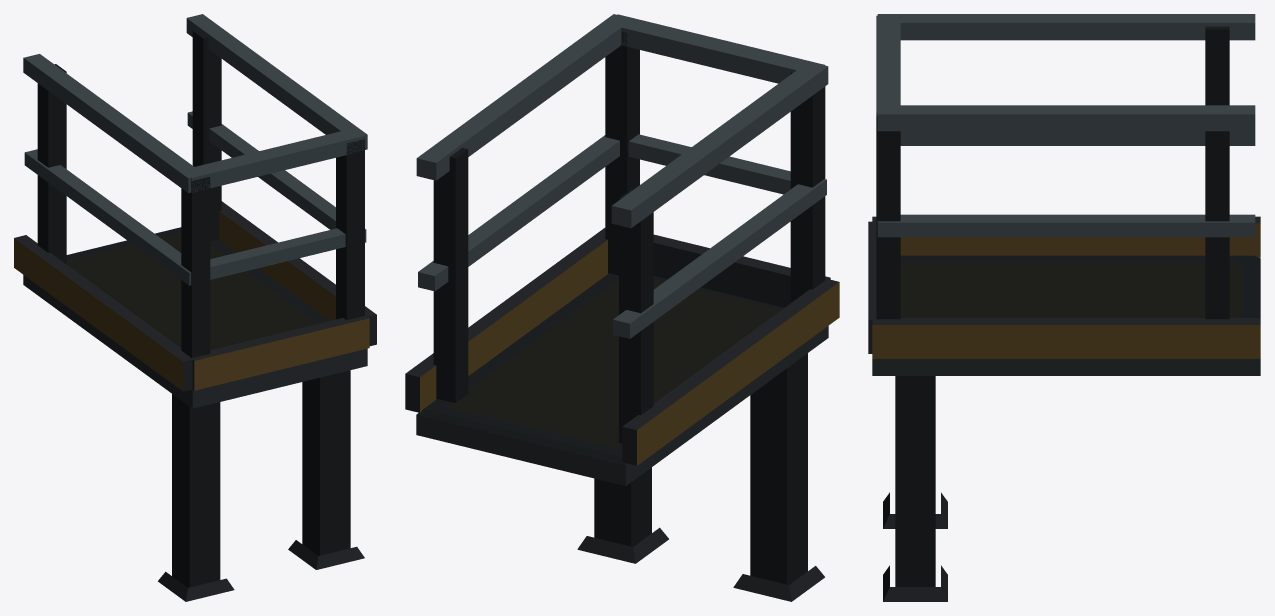
The model's file is lp_core_gantry.glb.
3 renders of one model, left to right at view 1: azimuth 30°, elevation 25°; view 2: azimuth 150°, elevation 25°; view 3: azimuth 270°, elevation 25°, orthographic. The views are drawn at different scales.
Visible parts, largest first — view 1: lp_core_gantry; view 2: lp_core_gantry; view 3: lp_core_gantry.
Part boxes in pixels (x1,y1,x2,y2): lp_core_gantry: (14,14,376,601); lp_core_gantry: (405,14,839,601); lp_core_gantry: (868,14,1260,601).
Bounding box in the file's own units: 0.95 × 2 × 1.46.
1 material, 1 textured.
